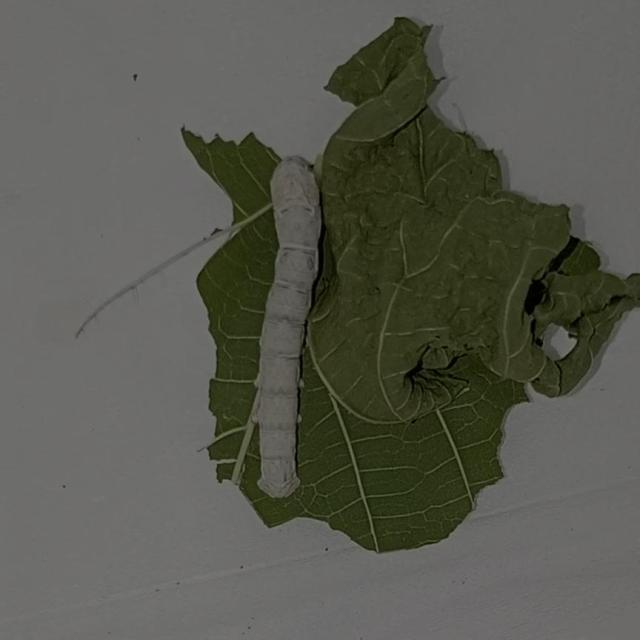Healthy: (236, 138, 342, 518)
